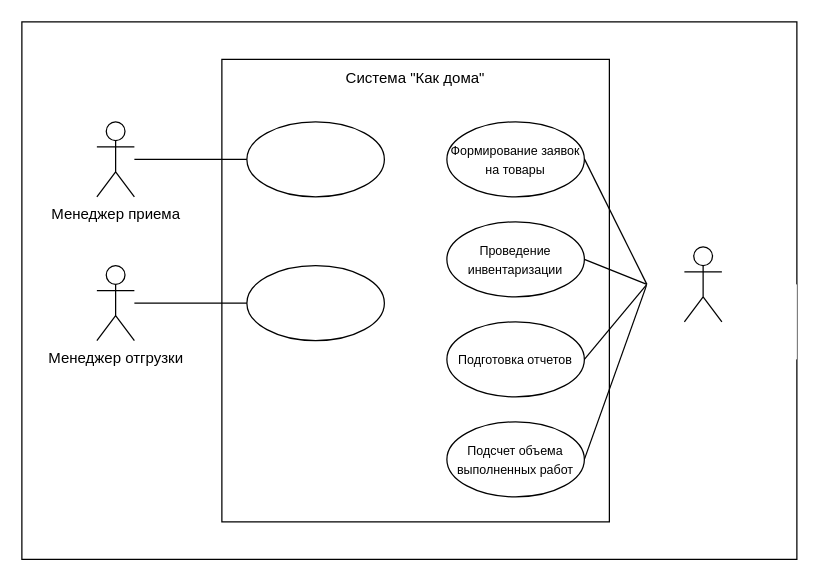
Image size: 819x581. Some labels were removed from this diagram. The centre of each missing label's shape, as x and y in pixels:
Отгрузка товара на склад: point 315,302
Прием товара на склад: point 315,159
Старший менеджер: point 702,284
